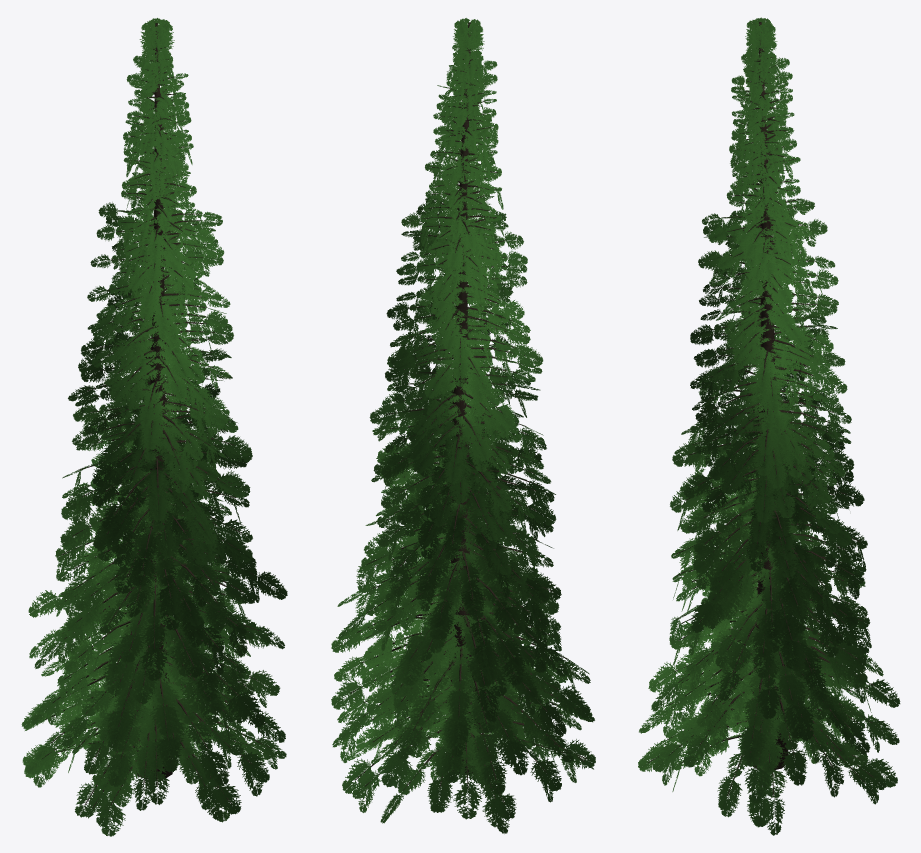
The model's file is spruce_conifer_v02_LOD1.fbx.
3 views of the same model, side by side, from view 1: azimuth 30°, elevation 25°; view 2: azimuth 150°, elevation 25°; view 3: azimuth 270°, elevation 25° (orthographic).
Visible parts, largest first — view 1: spruce_conifer_v02_LOD1; view 2: spruce_conifer_v02_LOD1; view 3: spruce_conifer_v02_LOD1.
Boxes of the visible parts, x1=… form: spruce_conifer_v02_LOD1: x1=21, y1=18, x2=287, y2=836; spruce_conifer_v02_LOD1: x1=331, y1=18, x2=595, y2=833; spruce_conifer_v02_LOD1: x1=638, y1=17, x2=900, y2=835.
Bounding box in the file's own units: 945 × 945 × 2909.
2 materials, 2 textured.
